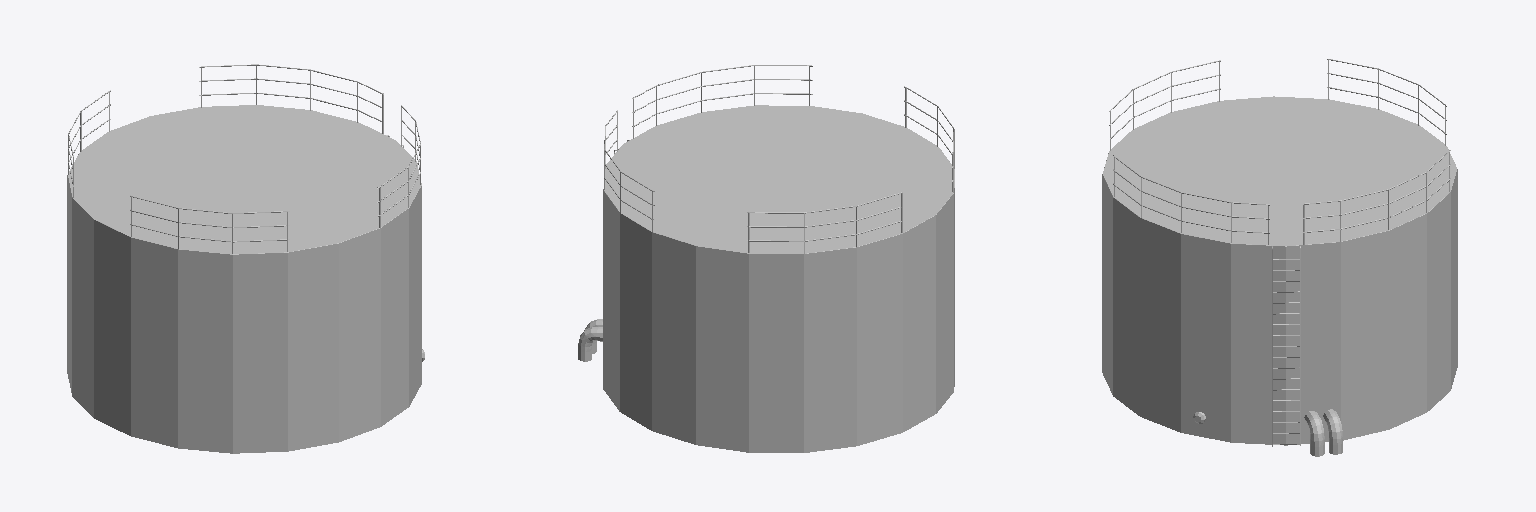
File: Oil_Silo_BIG.obj
The picture shows the model from 3 angles: view 1: azimuth 30°, elevation 25°; view 2: azimuth 150°, elevation 25°; view 3: azimuth 270°, elevation 25°; orthographic projection.
Visible parts, largest first — view 1: Oil_Silo; view 2: Oil_Silo; view 3: Oil_Silo.
Boxes of the visible parts, x1=… form: Oil_Silo: x1=67, y1=64, x2=424, y2=453; Oil_Silo: x1=578, y1=65, x2=954, y2=452; Oil_Silo: x1=1102, y1=59, x2=1457, y2=456.
Size of the model in its own units: 31.81 by 22.12 by 29.63.